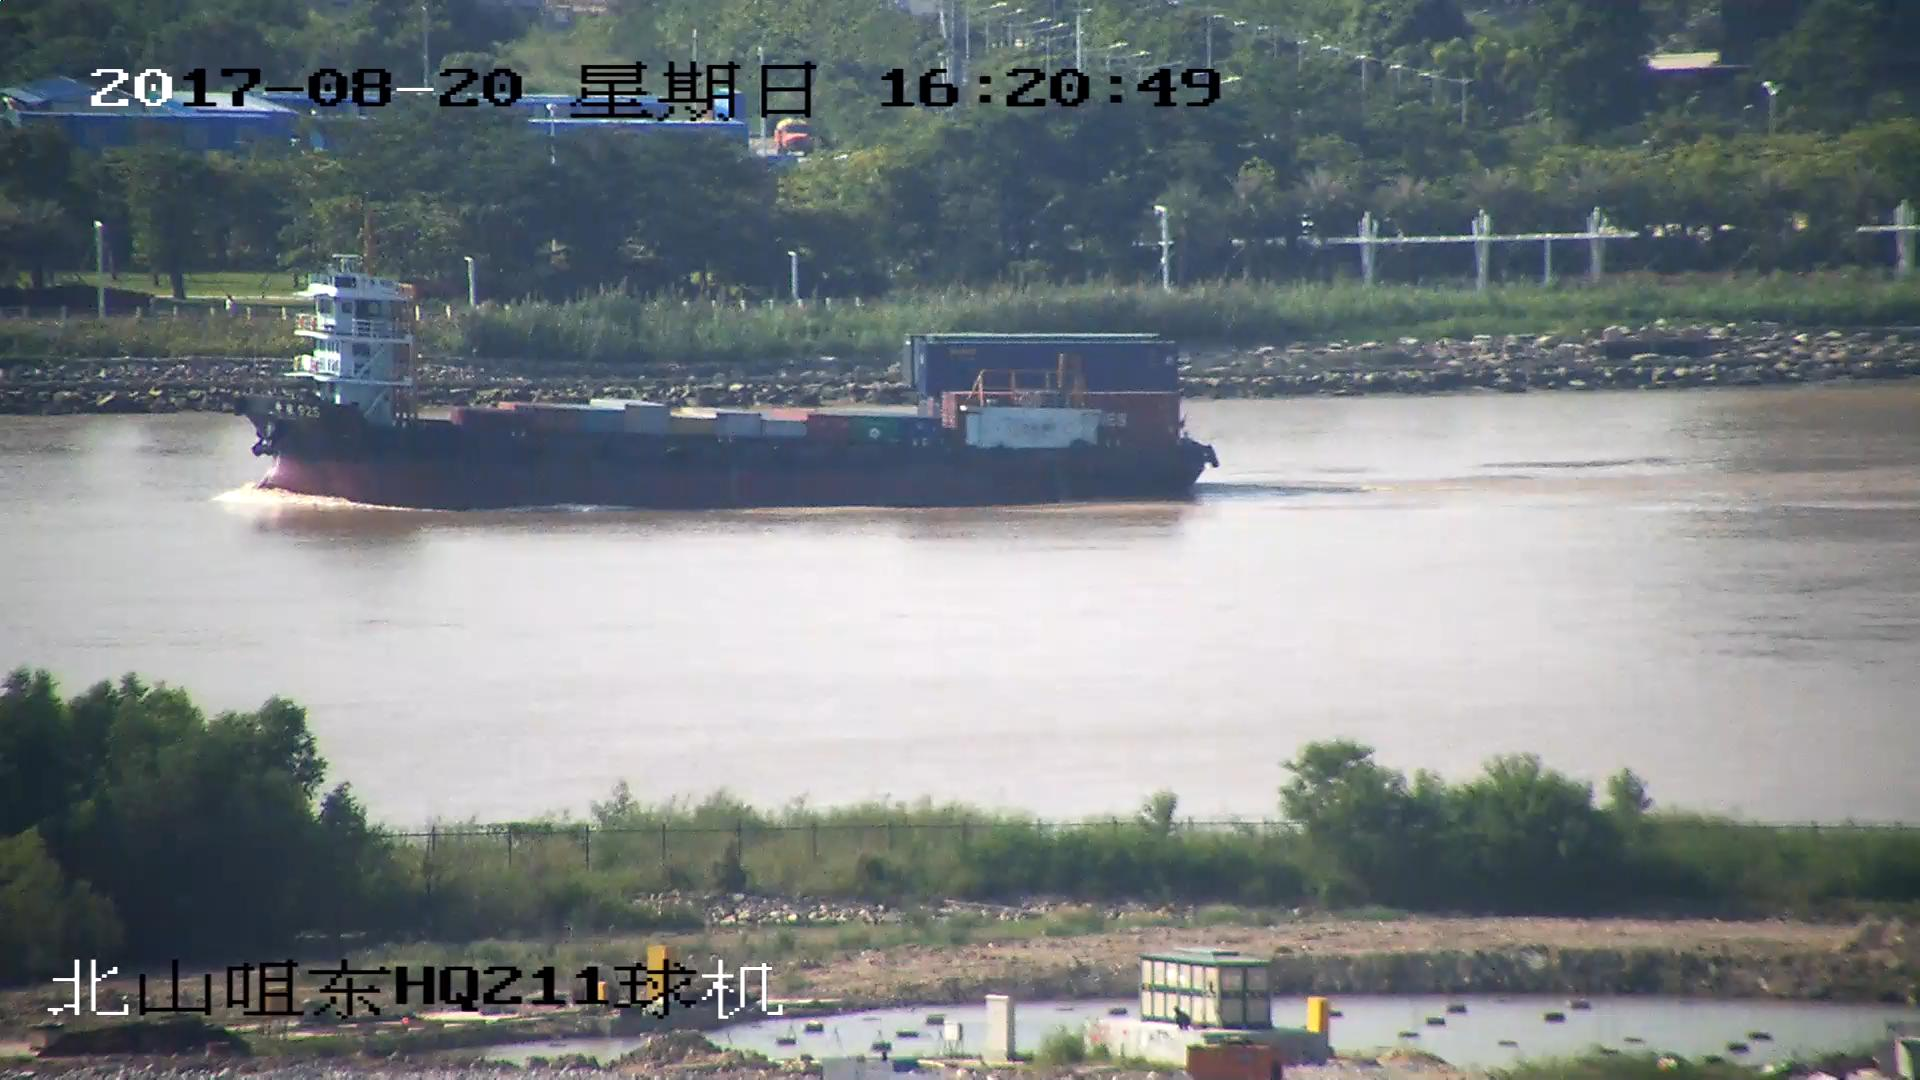container ship: (225, 251, 1211, 506)
